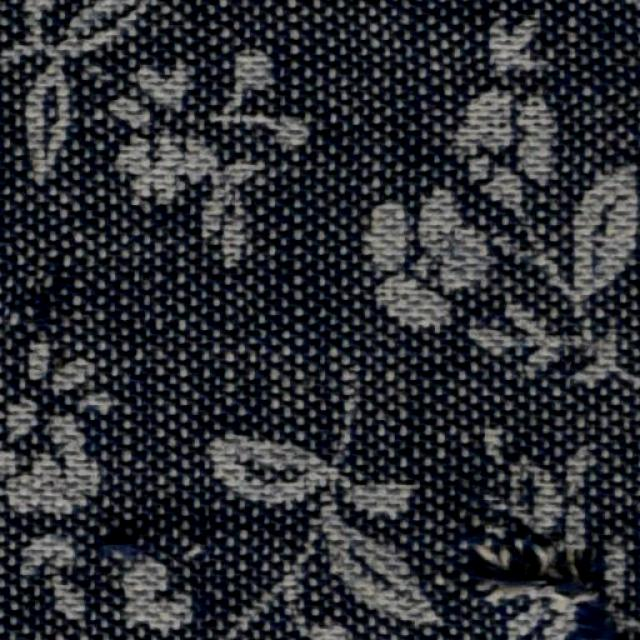Snag: (458, 517, 628, 640), (91, 528, 142, 581)
